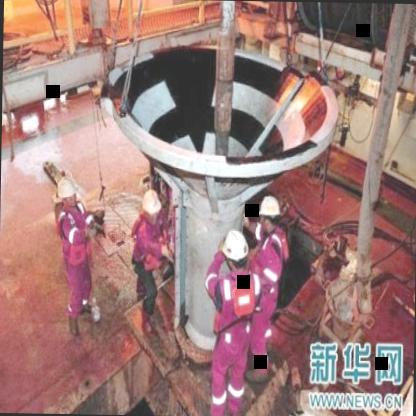helmet: (219, 228, 251, 277), (256, 195, 281, 235), (56, 173, 78, 209), (140, 186, 160, 224)
